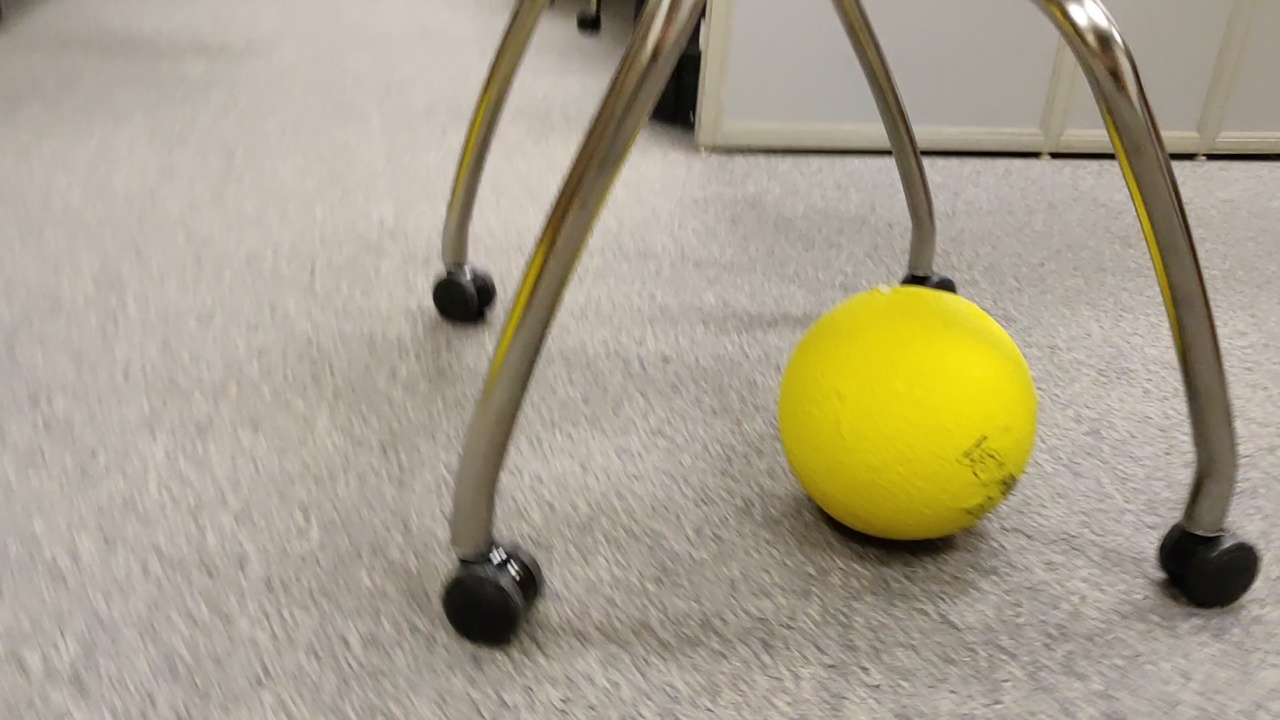Ball: (785, 285, 1042, 553)
